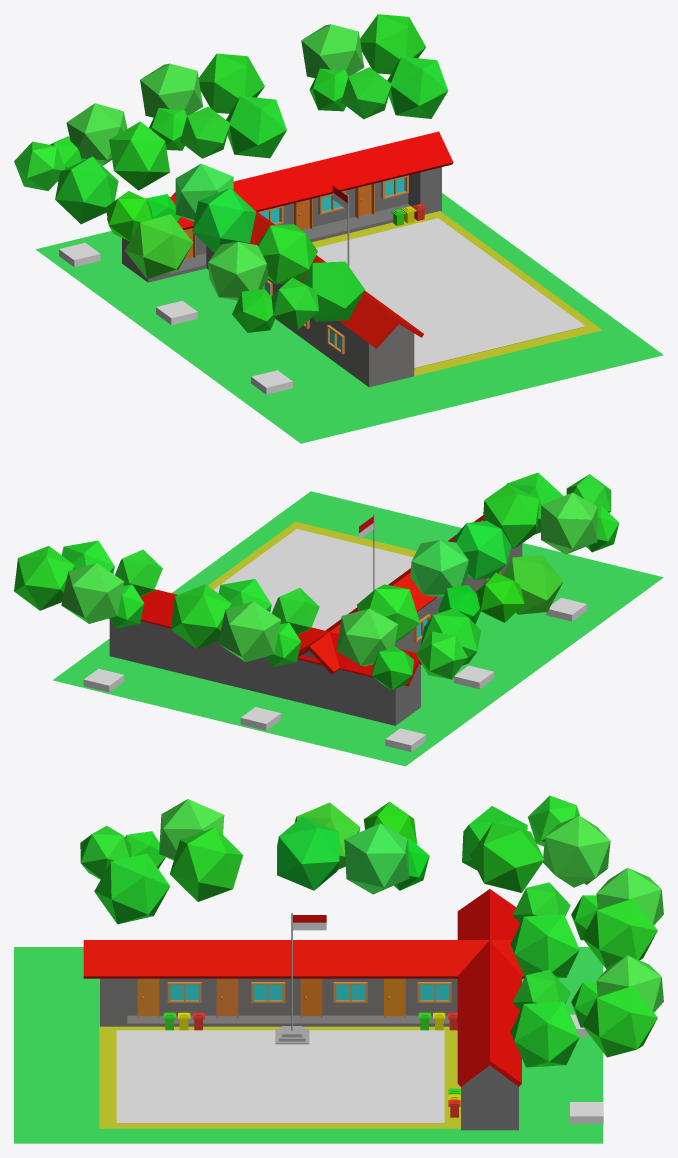
File: lomba[1].glb
3 views of the same model, one above another, from view 1: azimuth 30°, elevation 25°; view 2: azimuth 150°, elevation 25°; view 3: azimuth 270°, elevation 25° (orthographic). The views are drawn at different scales.
Visible parts, largest first — view 1: Cube.002, Cube.001, atap, gedung 2, gedung 1, Icosphere.012, Icosphere.017, Icosphere.007, Icosphere.022, Icosphere.024, Icosphere.009, Icosphere.003 (+20 smaller); view 2: Cube.002, gedung 2, Cube.001, Icosphere.003, Icosphere.018, Icosphere.011, Icosphere.014, Icosphere.015, Icosphere.006, Icosphere.021, Icosphere, Icosphere.009 (+24 smaller); view 3: Cube.001, Cube.002, atap.001, gedung 1, atap, Icosphere, Icosphere.002, Icosphere.006, Icosphere.014, Icosphere.024, Icosphere.009, Icosphere.012 (+29 smaller).
Part boxes in pixels (bbox=[...]): Cube.002: bbox=[36, 193, 663, 443]; Cube.001: bbox=[312, 211, 602, 376]; atap: bbox=[107, 131, 453, 229]; gedung 2: bbox=[122, 167, 441, 282]; gedung 1: bbox=[206, 246, 414, 387]; Icosphere.012: bbox=[387, 56, 448, 118]; Icosphere.017: bbox=[226, 96, 286, 158]; Icosphere.007: bbox=[124, 214, 193, 278]; Icosphere.022: bbox=[55, 156, 118, 224]; Icosphere.024: bbox=[109, 121, 169, 190]; Icosphere.009: bbox=[192, 188, 256, 252]; Icosphere.003: bbox=[208, 241, 268, 300]; Cube.002: bbox=[53, 491, 663, 766]; gedung 2: bbox=[109, 620, 420, 725]; Cube.001: bbox=[208, 521, 416, 630]; Icosphere.003: bbox=[541, 492, 597, 554]; Icosphere.018: bbox=[218, 601, 280, 662]; Icosphere.011: bbox=[61, 563, 124, 623]; Icosphere.014: bbox=[14, 546, 74, 610]; Icosphere.015: bbox=[171, 584, 231, 648]; Icosphere.006: bbox=[410, 540, 468, 597]; Icosphere.021: bbox=[336, 608, 397, 666]; Icosphere: bbox=[483, 484, 539, 548]; Icosphere.009: bbox=[453, 520, 511, 579]; Cube.001: bbox=[99, 1025, 460, 1128]; Cube.002: bbox=[14, 947, 603, 1143]; atap.001: bbox=[83, 940, 524, 978]; gedung 1: bbox=[100, 978, 457, 1026]; atap: bbox=[457, 889, 521, 1086]; Icosphere: bbox=[170, 827, 243, 901]; Icosphere.002: bbox=[94, 853, 170, 924]; Icosphere.006: bbox=[344, 823, 409, 894]; Icosphere.014: bbox=[582, 986, 657, 1057]; Icosphere.024: bbox=[470, 822, 544, 892]; Icosphere.009: bbox=[277, 817, 339, 890]; Icosphere.012: bbox=[510, 1001, 579, 1067].
Bounding box in the file's own units: 32.15 × 10.35 × 38.33.
